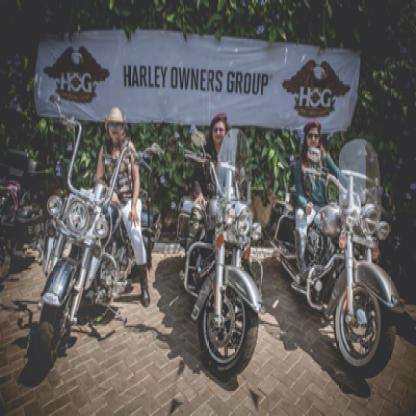Without Helmet: (103, 101, 127, 142), (209, 111, 231, 146), (303, 119, 323, 152)
